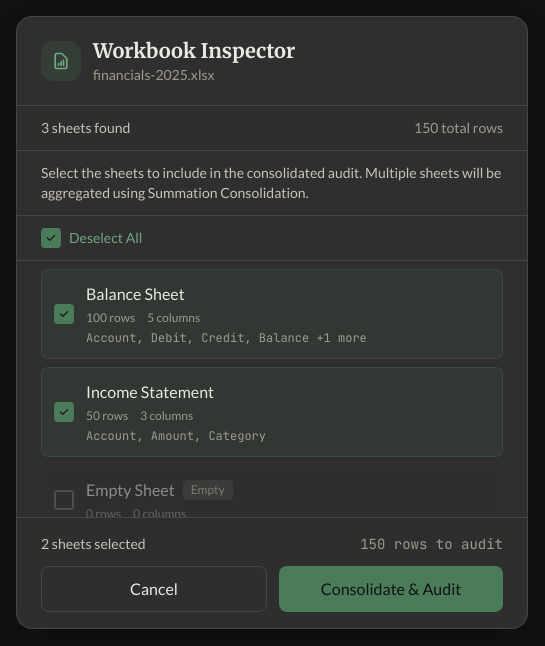
Test: WorkbookInspector › re-selects a deselected sheet when clicked
What coordinates should you click on to do the following:
click the text "Income Statement"
I would click on:
 (150, 392)
Its box is [86,380,214,404].
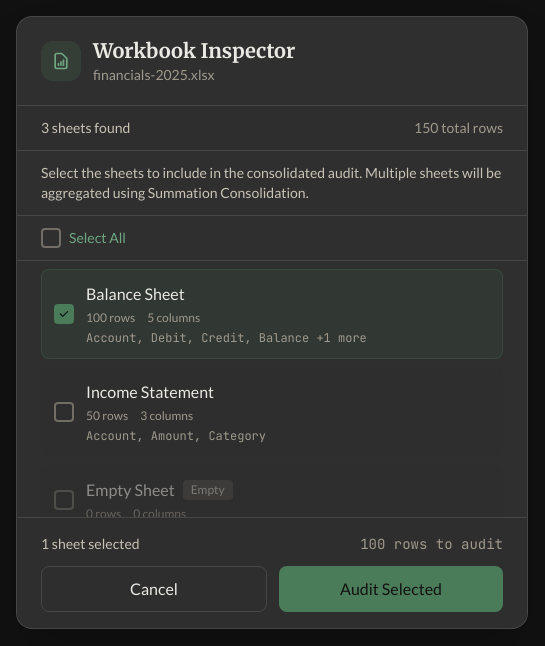
expect the text "1 sheet selected" is shown: met, box [41,534,140,554]
What coordinates should you click on to do the following:
click the text "Income Statement"
I would click on:
 (150, 392)
Its box is [86,380,214,404].
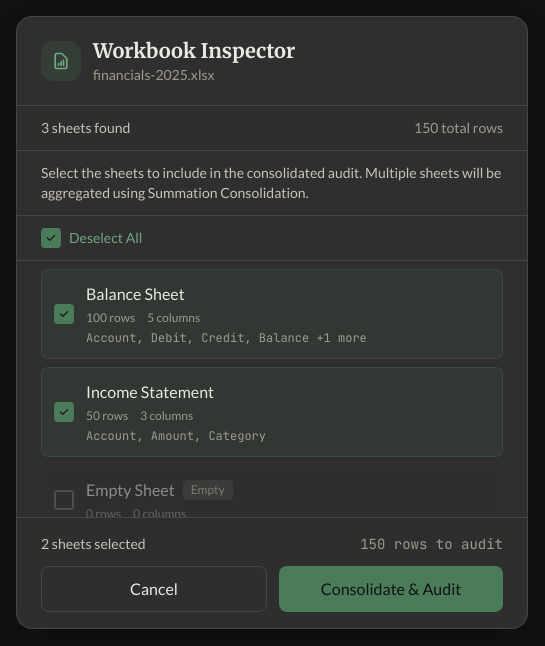
expect the text "2 sheets selected" is shown: met, box [41,534,146,554]
